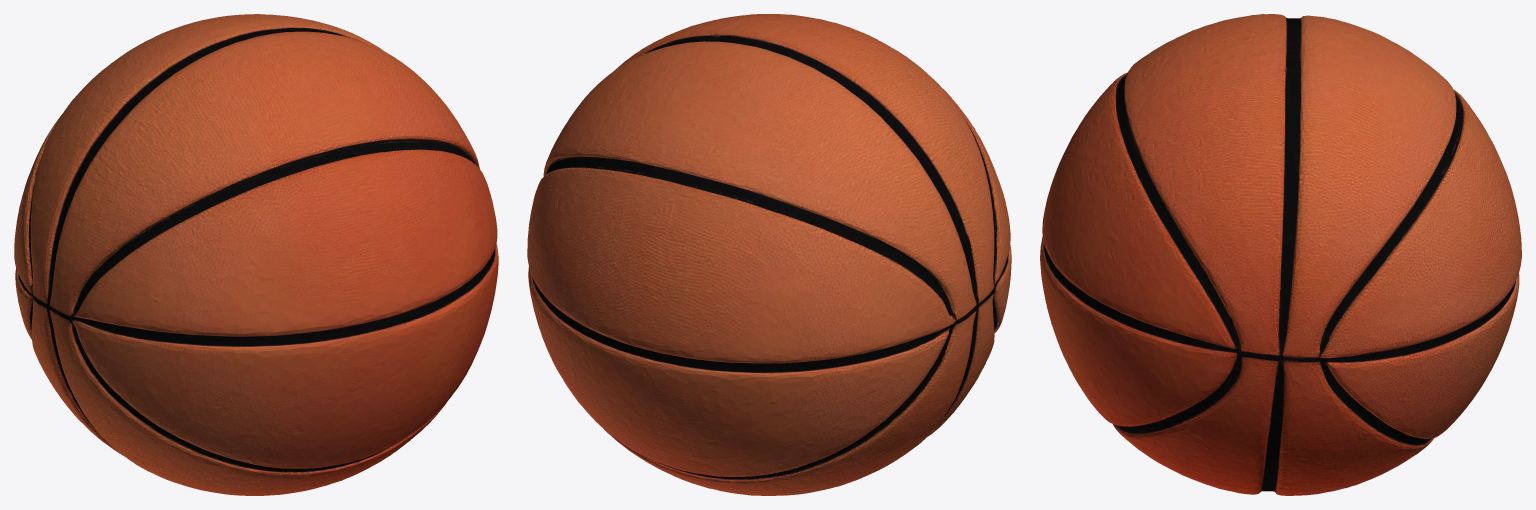
Rendered from toy_8.glb.
3 renders of one model, left to right at view 1: azimuth 30°, elevation 25°; view 2: azimuth 150°, elevation 25°; view 3: azimuth 270°, elevation 25°, orthographic.
Visible parts, largest first — view 1: tripo_node_f4756dda-7ec6-41bd-b170-e27b4d69d1a8; view 2: tripo_node_f4756dda-7ec6-41bd-b170-e27b4d69d1a8; view 3: tripo_node_f4756dda-7ec6-41bd-b170-e27b4d69d1a8.
Boxes of the visible parts, x1,y1,x2,y2 form: tripo_node_f4756dda-7ec6-41bd-b170-e27b4d69d1a8: (14,14,498,495); tripo_node_f4756dda-7ec6-41bd-b170-e27b4d69d1a8: (527,14,1011,495); tripo_node_f4756dda-7ec6-41bd-b170-e27b4d69d1a8: (1040,14,1521,495).
Size of the model in its own units: 0.9984 by 0.9979 by 1.
Materials: 1 (1 with a texture image).
